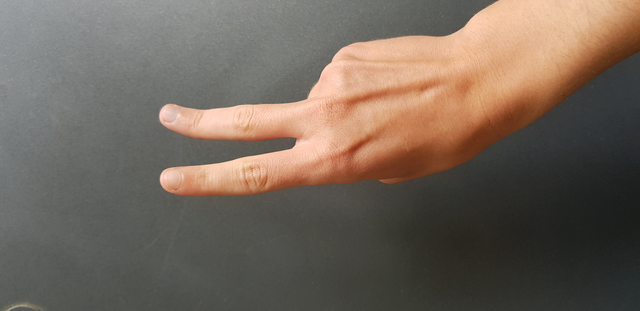Scissors: (120, 29, 516, 207)
